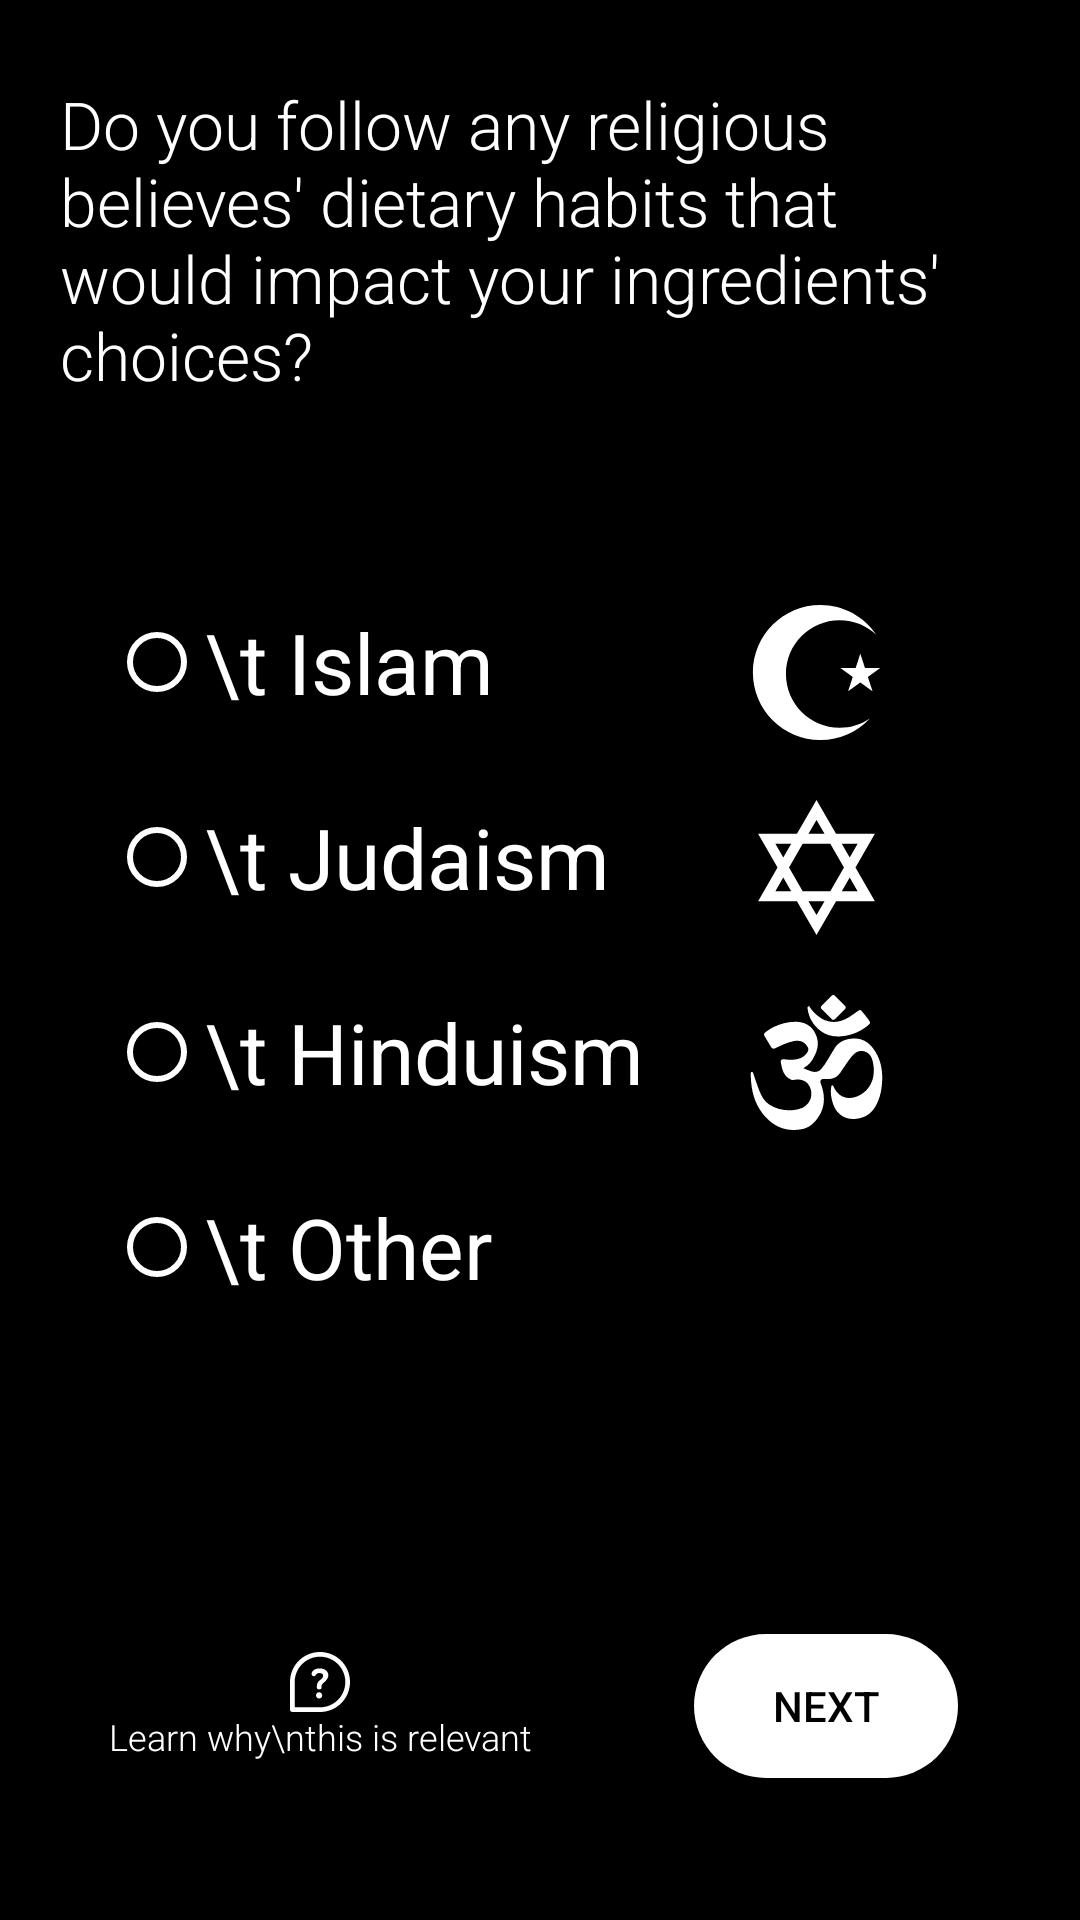

Named icons in this screenshot (1080 x 1920) and their centers, (x=x, y=y):
islam: (x=816, y=672)
question: (x=320, y=1682)
